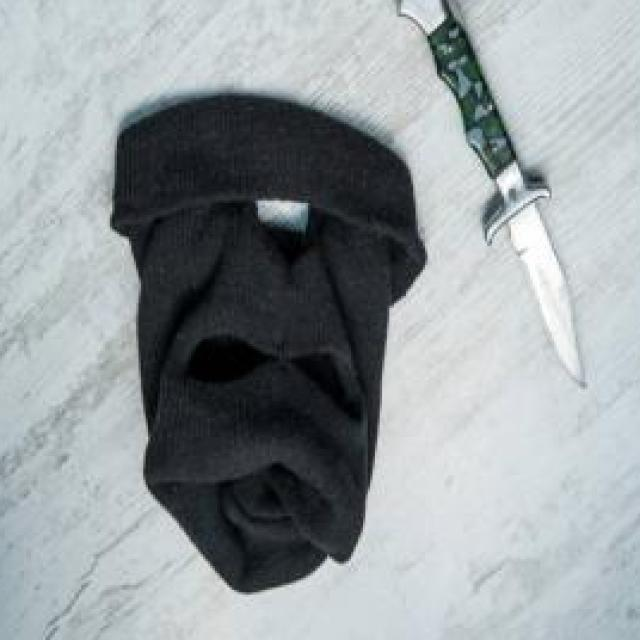knife: (396, 0, 589, 390)
